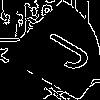J: (24, 25, 97, 73)
